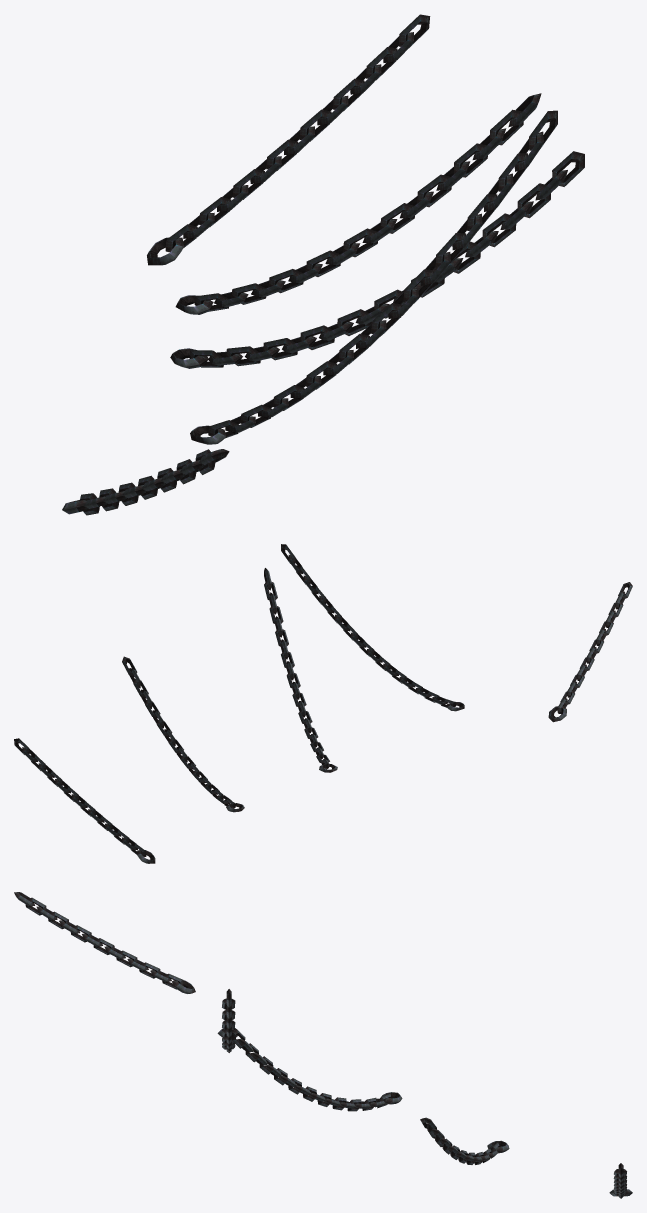
Rendered from fengbaozhita_05_B_4.FBX.
3 renders of one model, top to bottom at view 1: azimuth 30°, elevation 25°; view 2: azimuth 150°, elevation 25°; view 3: azimuth 270°, elevation 25°, orthographic. The views are drawn at different scales.
Visible parts, largest first — view 1: fengbaozhita_05_B_4; view 2: fengbaozhita_05_B_4; view 3: fengbaozhita_05_B_4.
Boxes of the visible parts, left/top/right/bottom form: fengbaozhita_05_B_4: left=62, top=14, right=584, bottom=515; fengbaozhita_05_B_4: left=14, top=544, right=632, bottom=863; fengbaozhita_05_B_4: left=14, top=892, right=632, bottom=1198.
Size of the model in its own units: 5211 by 2579 by 6411.
